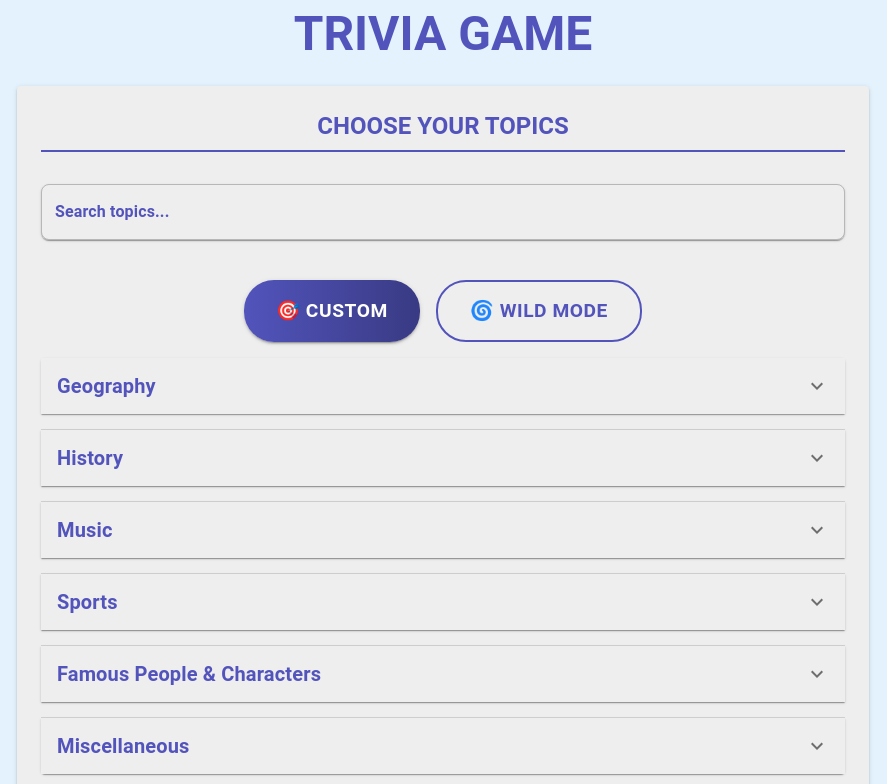
GameTopicSelection Component › Wild Mode selects all topics
// Click Wild Mode button
Click the button "🌀 Wild Mode": click(539, 311) x1=436 y1=280 x2=642 y2=342
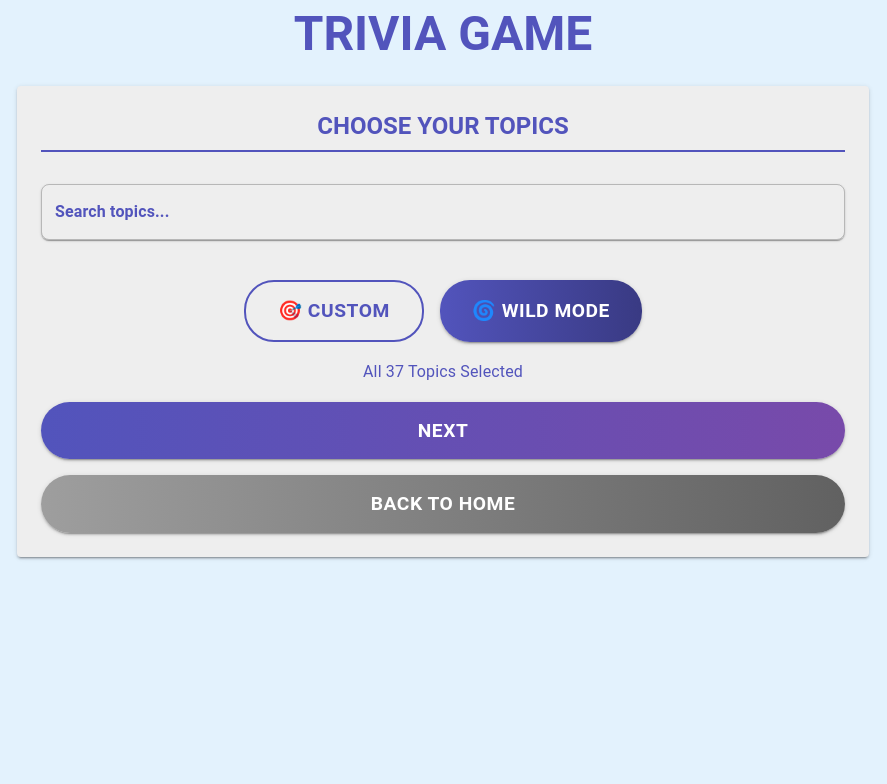
Now the heading "All 37 Topics Selected" is shown, box x1=363 y1=362 x2=523 y2=381
Now the button "NEXT" is enabled, box x1=41 y1=402 x2=845 y2=459
